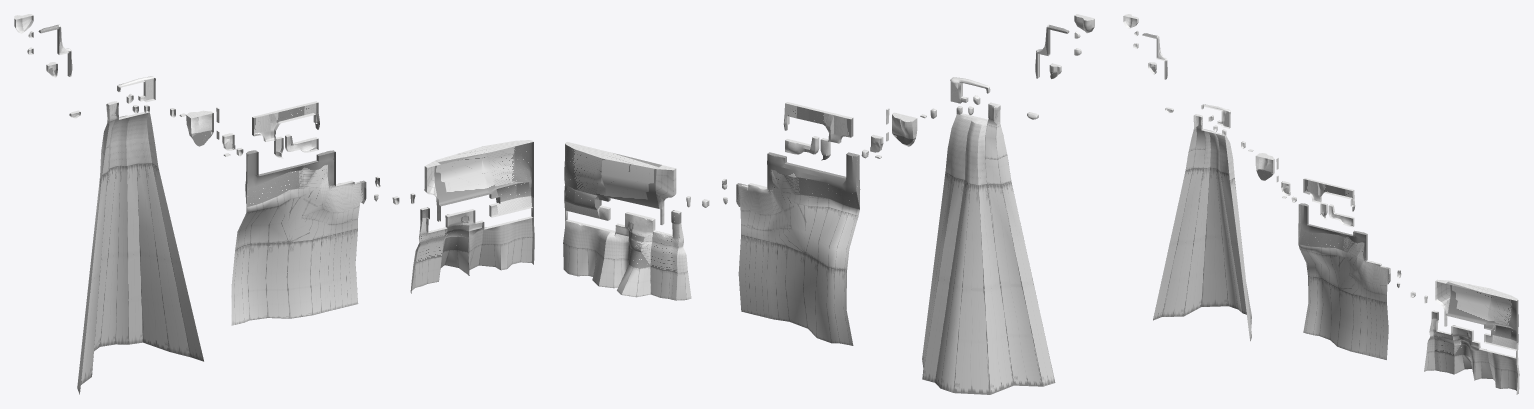
The model's file is SM_Zone01.fbx.
The picture shows the model from 3 angles, left to right: view 1: azimuth 30°, elevation 25°; view 2: azimuth 150°, elevation 25°; view 3: azimuth 330°, elevation 25°; orthographic projection. The views are drawn at different scales.
Parts seen in each view (by area): view 1: Cube__120__polySurface5; view 2: Cube__120__polySurface5; view 3: Cube__120__polySurface5.
Boxes of the visible parts, x1,y1,x2,y2 form: Cube__120__polySurface5: (14,14,534,394); Cube__120__polySurface5: (563,14,1094,394); Cube__120__polySurface5: (1123,14,1519,394).
Bounding box in the file's own units: 752 × 524 × 99.58.
